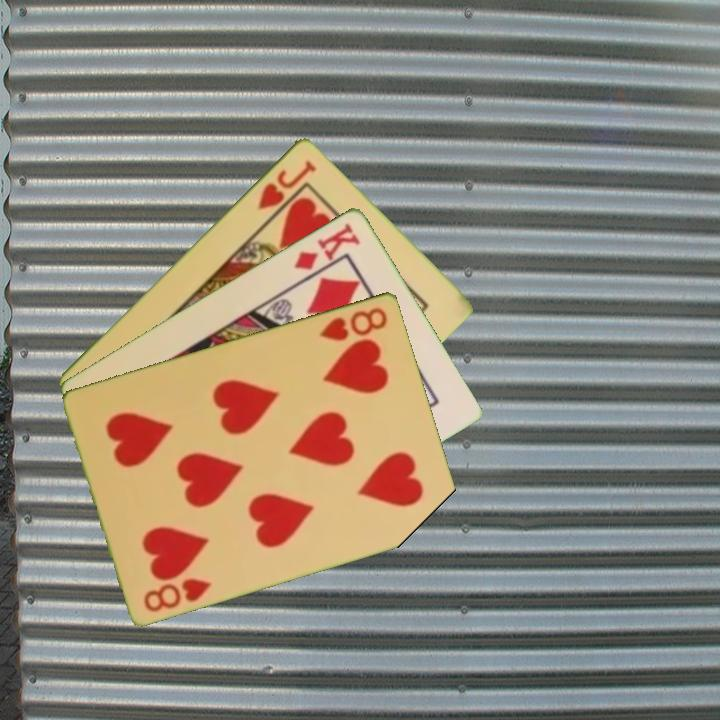8h: (140, 573, 214, 615), (316, 303, 391, 344)
Jh: (254, 156, 320, 213)
Kd: (290, 218, 363, 273)
